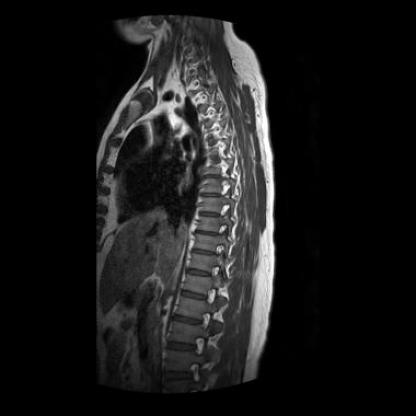Demyelinating Plaquesrotation: (200, 209, 222, 221), (198, 136, 218, 146)
Hemangiomatarotation: (189, 253, 214, 272), (196, 125, 215, 138)
